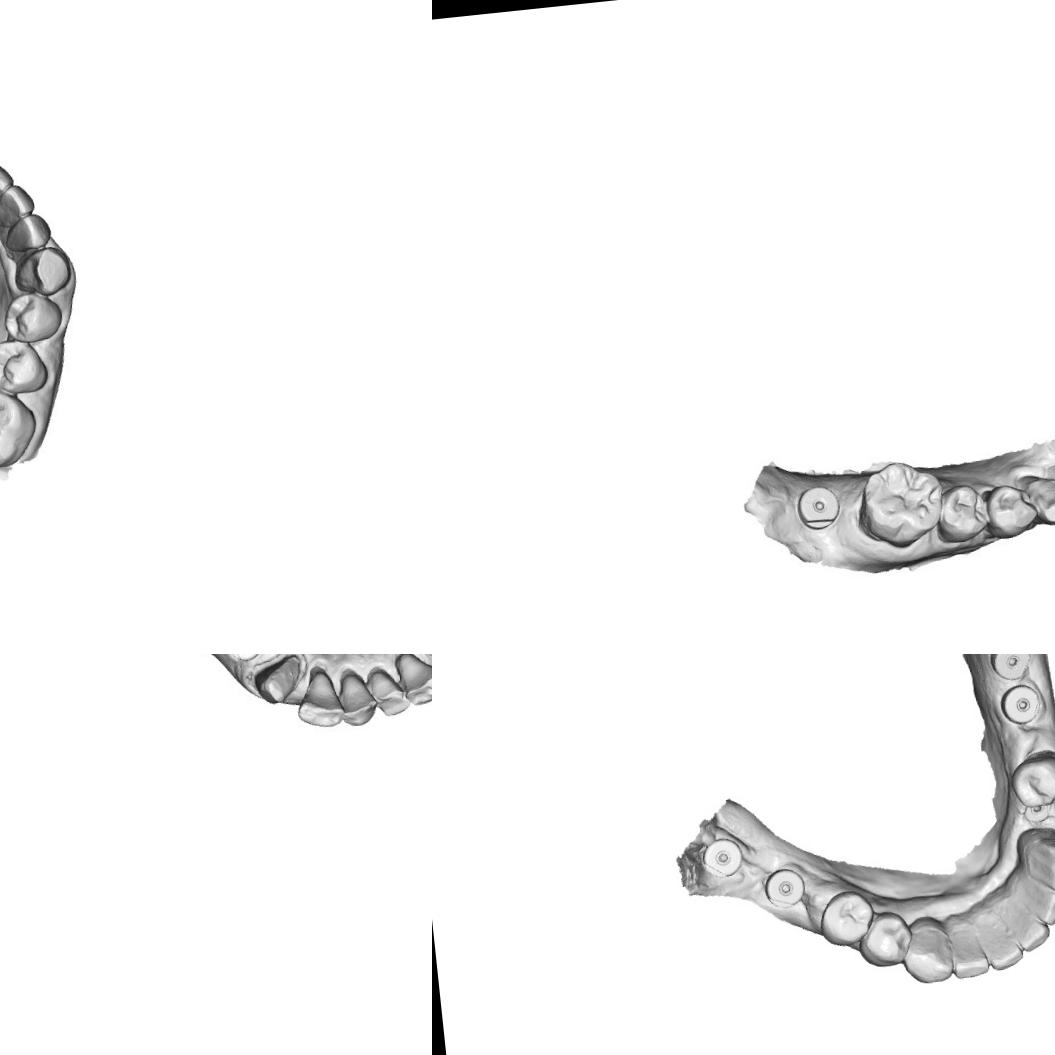canine: (898, 916, 956, 986), (17, 250, 71, 296), (1019, 833, 1055, 897), (1023, 465, 1055, 534)
crown: (254, 654, 305, 705)
implant: (792, 484, 842, 538), (699, 834, 746, 881), (762, 866, 808, 912), (998, 681, 1043, 727), (986, 654, 1032, 683), (1022, 803, 1050, 824), (224, 654, 267, 666)
incisor: (297, 665, 348, 730), (977, 916, 1026, 972), (946, 921, 990, 980), (339, 664, 378, 726), (1006, 905, 1052, 954), (367, 664, 409, 716), (398, 654, 432, 703), (0, 185, 38, 228), (1019, 883, 1055, 928), (6, 217, 52, 252), (0, 163, 12, 203)
molar: (853, 454, 942, 550), (0, 388, 38, 472)
premolar: (815, 888, 878, 950), (936, 482, 991, 548), (854, 908, 912, 970), (982, 482, 1036, 540), (0, 339, 50, 400), (3, 294, 64, 342), (1008, 748, 1055, 807)
